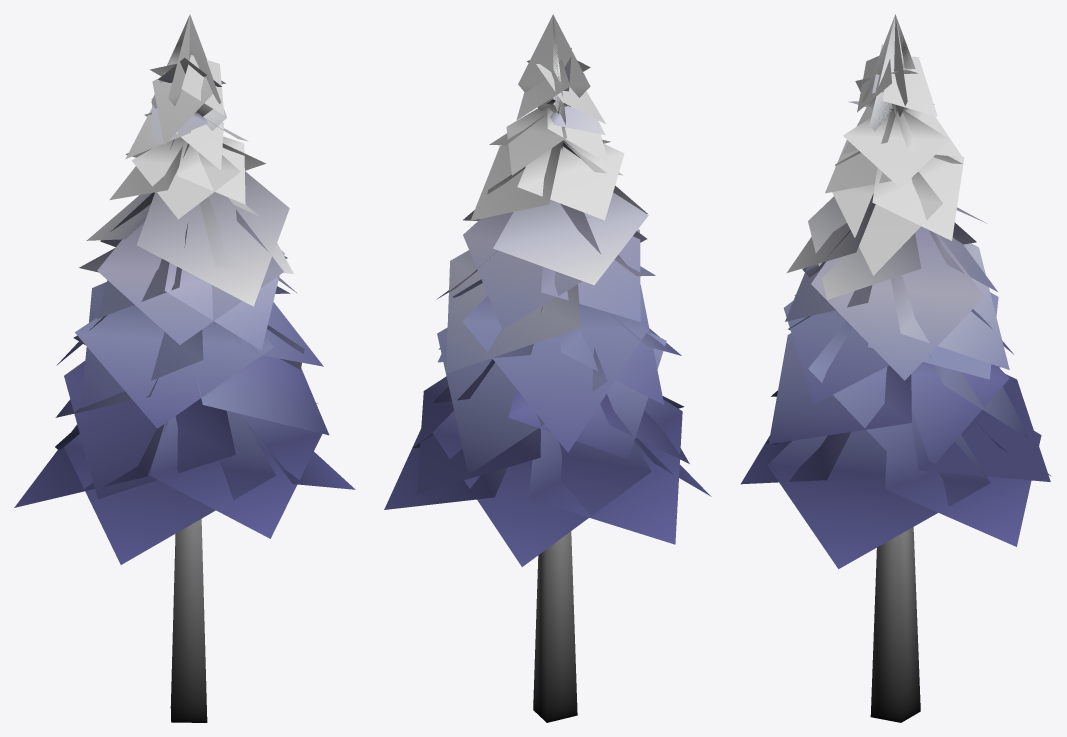
The model's file is SM_GDI_INN_TreePine_B1.fbx.
3 views of the same model, side by side, from view 1: azimuth 30°, elevation 25°; view 2: azimuth 150°, elevation 25°; view 3: azimuth 270°, elevation 25° (orthographic).
Parts seen in each view (by area): view 1: SM_GDI_INN_TreePine_B1_LOD0; view 2: SM_GDI_INN_TreePine_B1_LOD0; view 3: SM_GDI_INN_TreePine_B1_LOD0.
Boxes of the visible parts, <box> form: SM_GDI_INN_TreePine_B1_LOD0: <box>14,14,355,722</box>; SM_GDI_INN_TreePine_B1_LOD0: <box>384,14,711,722</box>; SM_GDI_INN_TreePine_B1_LOD0: <box>741,14,1051,722</box>.
Size of what is drawn, in the model's own units: 421 by 984 by 397.
